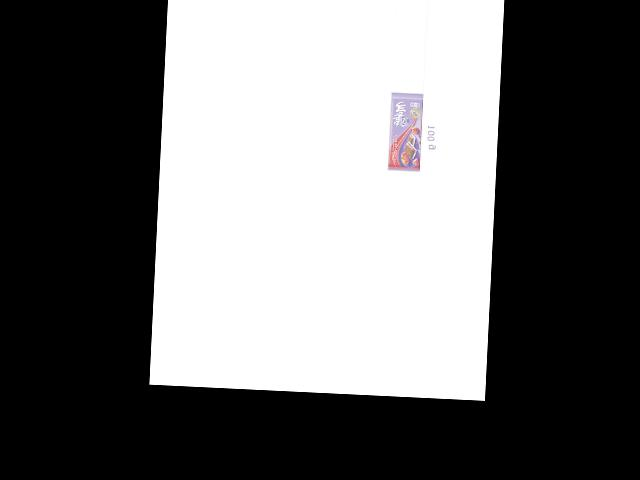chocolate: (387, 92, 427, 172)
